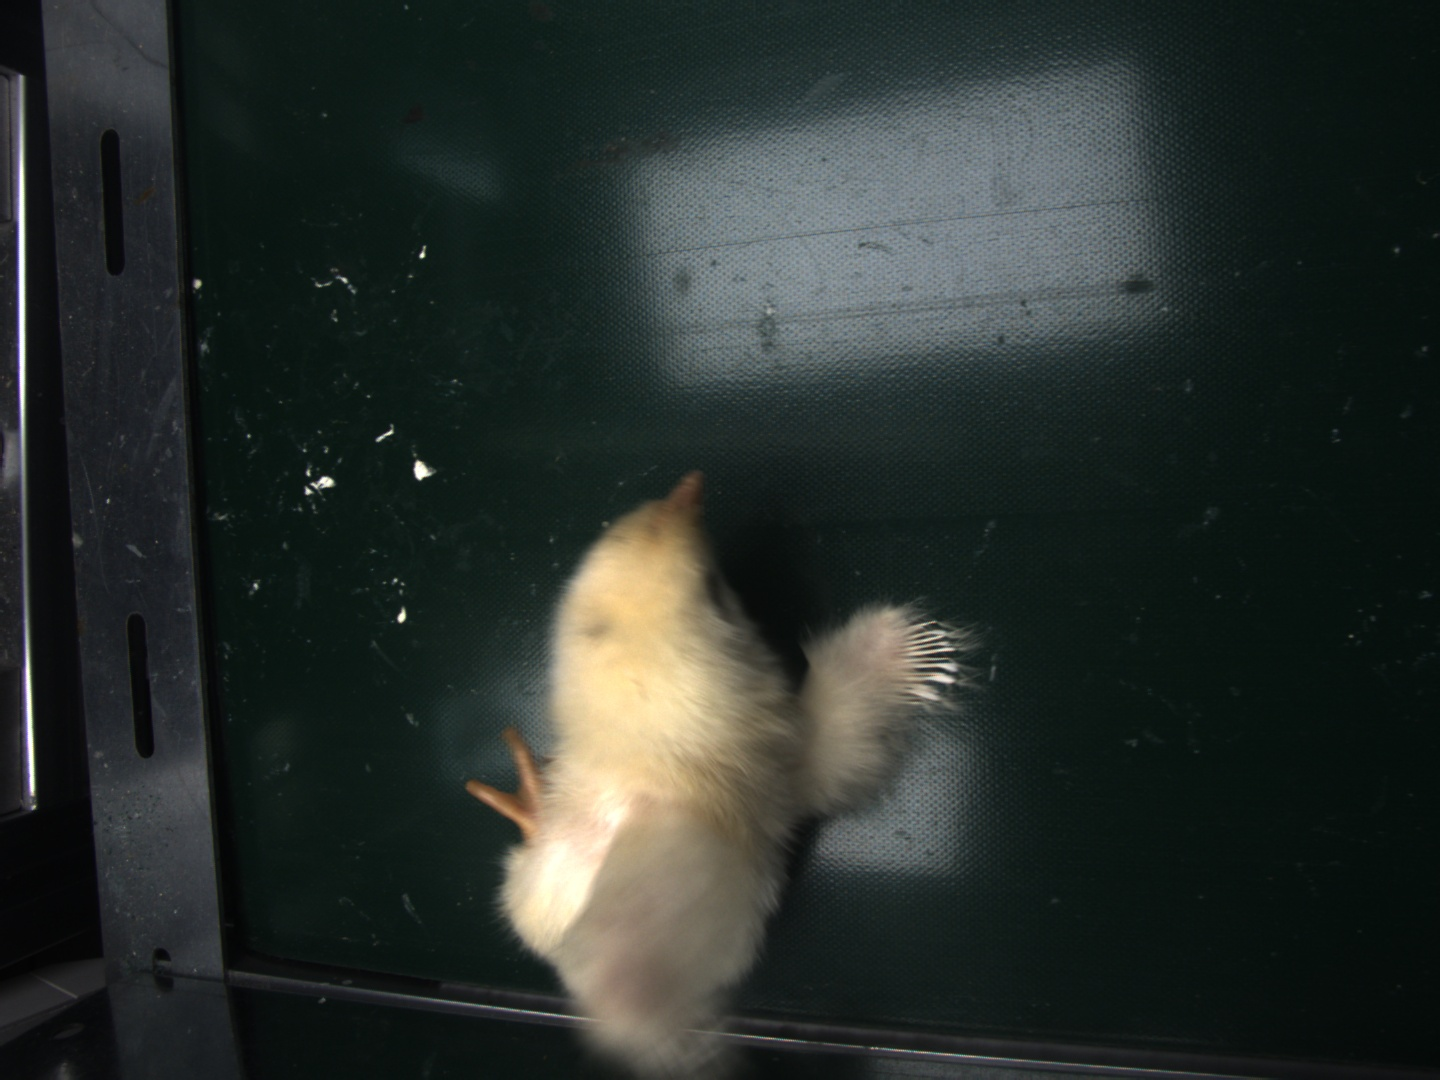male: (896, 615, 963, 703)
